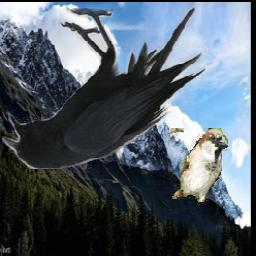Crow: (3, 5, 206, 169)
Sparrow: (170, 129, 228, 216)
